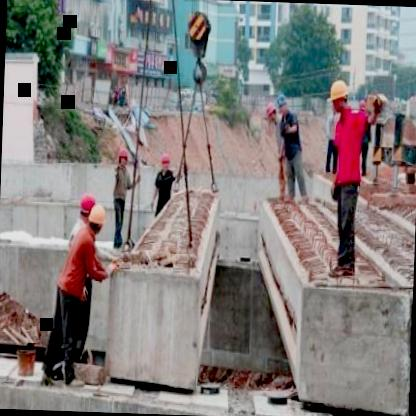helmet: (328, 76, 354, 118), (84, 204, 108, 235), (76, 188, 98, 220), (276, 92, 291, 115), (118, 144, 130, 170), (159, 149, 173, 171), (264, 103, 278, 123)
